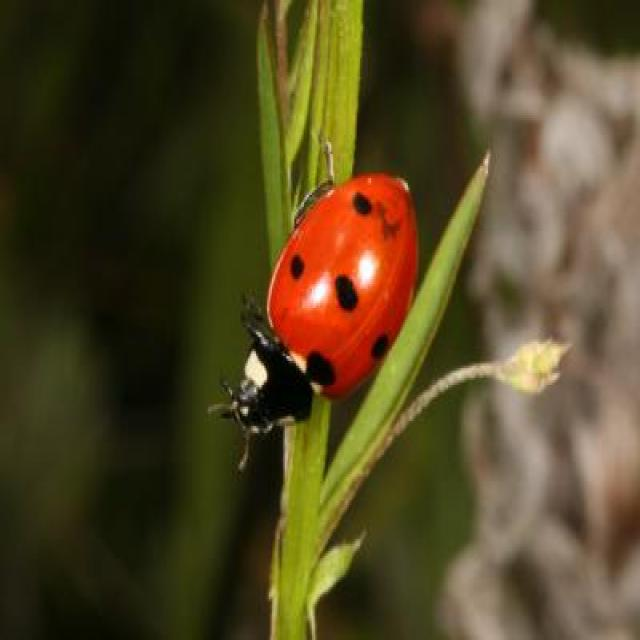antennae: (237, 418, 257, 474), (207, 396, 233, 422)
body: (233, 171, 417, 434)
insect: (208, 146, 420, 473)
legs: (237, 289, 287, 356)
wings: (268, 172, 416, 401)
